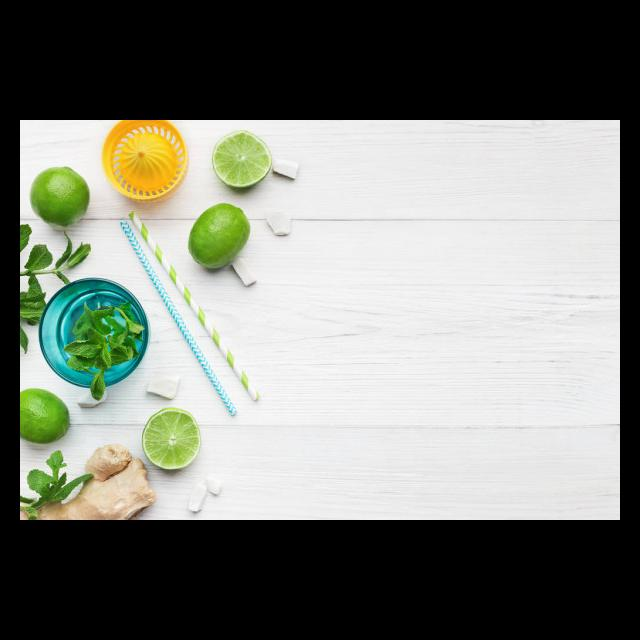lime: (185, 199, 254, 276), (25, 158, 95, 229), (20, 382, 75, 449)
